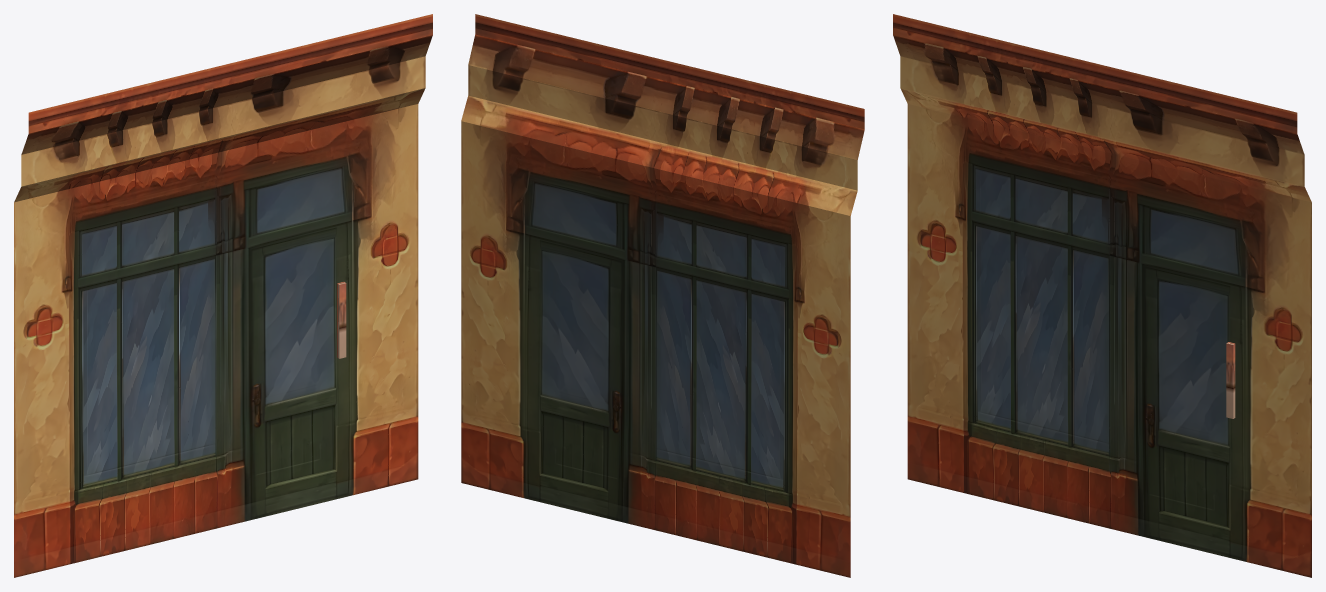
The model's file is MSN_G_Bay4A.fbx.
The picture shows the model from 3 angles, left to right: view 1: azimuth 30°, elevation 25°; view 2: azimuth 150°, elevation 25°; view 3: azimuth 330°, elevation 25°; orthographic projection. The views are drawn at different scales.
Parts seen in each view (by area): view 1: MSN_G_Bay4A; view 2: MSN_G_Bay4A; view 3: MSN_G_Bay4A.
Part boxes in pixels (x1,y1,x2,y2): MSN_G_Bay4A: (14,14,432,577); MSN_G_Bay4A: (461,14,864,577); MSN_G_Bay4A: (893,14,1311,577).
Bounding box in the file's own units: 4 × 0.25 × 4.5.
1 material, 1 textured.
